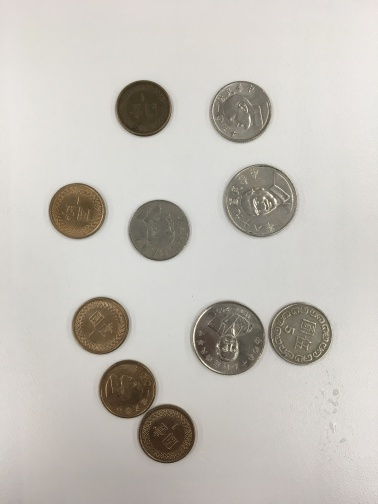1 dollar: (36, 173, 115, 249), (106, 67, 182, 145), (56, 286, 139, 356), (133, 404, 215, 474), (93, 357, 162, 421)
10 dollar: (216, 158, 305, 245), (186, 293, 268, 384)
5 dollar: (268, 294, 340, 374), (119, 194, 196, 267), (207, 74, 279, 145)
